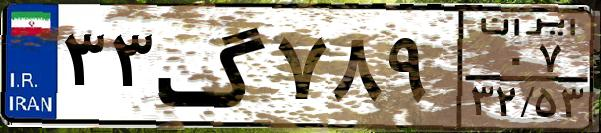0: (508, 27, 537, 80)
2: (495, 70, 520, 125)
3: (57, 26, 110, 100), (110, 28, 156, 98), (560, 70, 590, 125), (470, 70, 495, 125)
5: (535, 70, 560, 125)
7: (270, 28, 330, 110), (537, 27, 568, 80)
8: (330, 28, 385, 110)
9: (385, 28, 445, 110)
گ: (156, 12, 270, 120)
